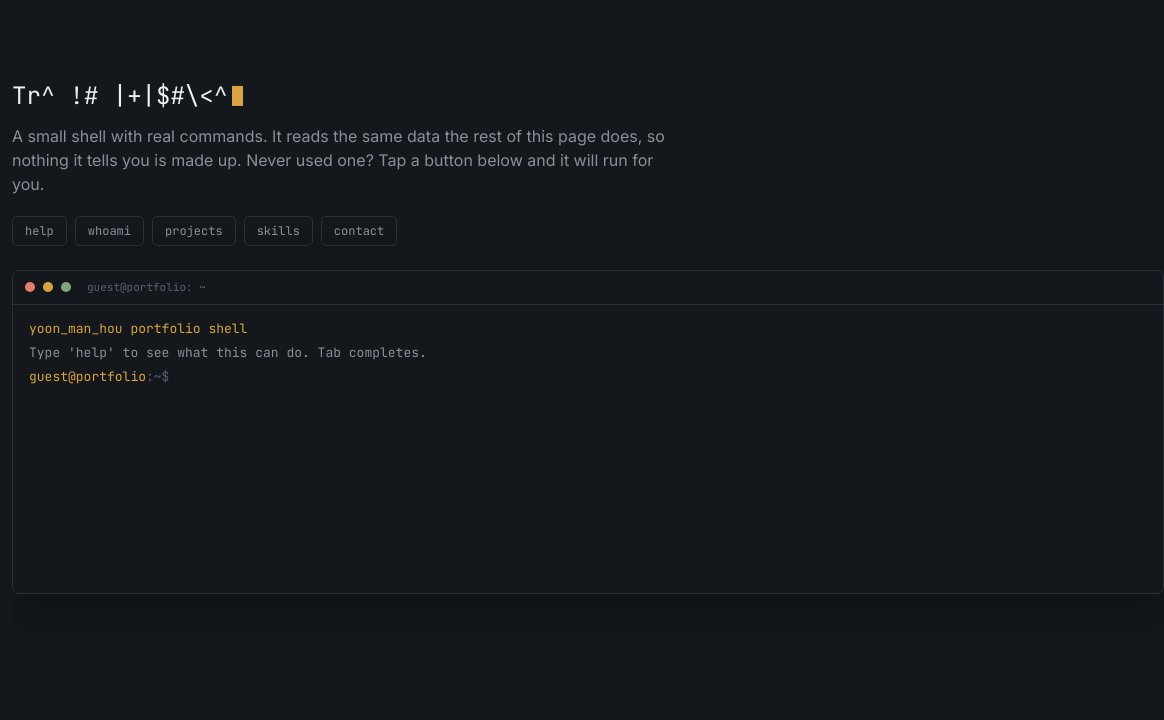
TerminalDemo › prints the candidates when Tab is ambiguous rather than guessing
Click the field named "terminal input": {"x": 658, "y": 376} x1=169 y1=364 x2=1147 y2=388
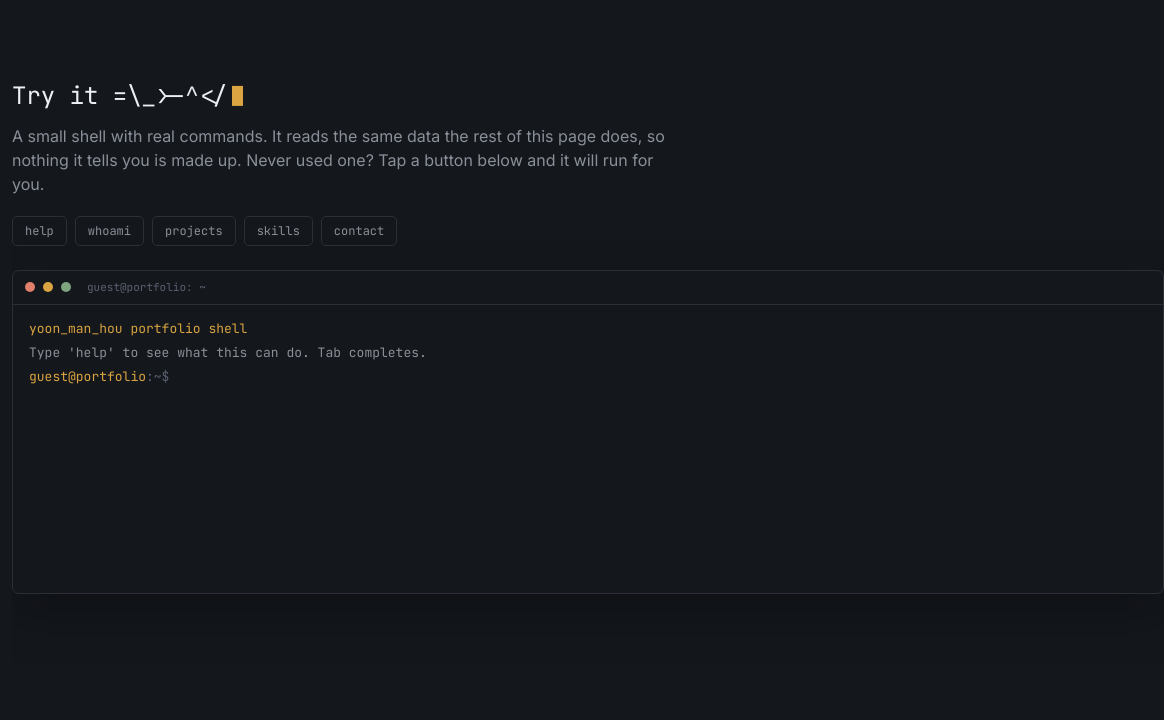
Type keys "c{Tab}"
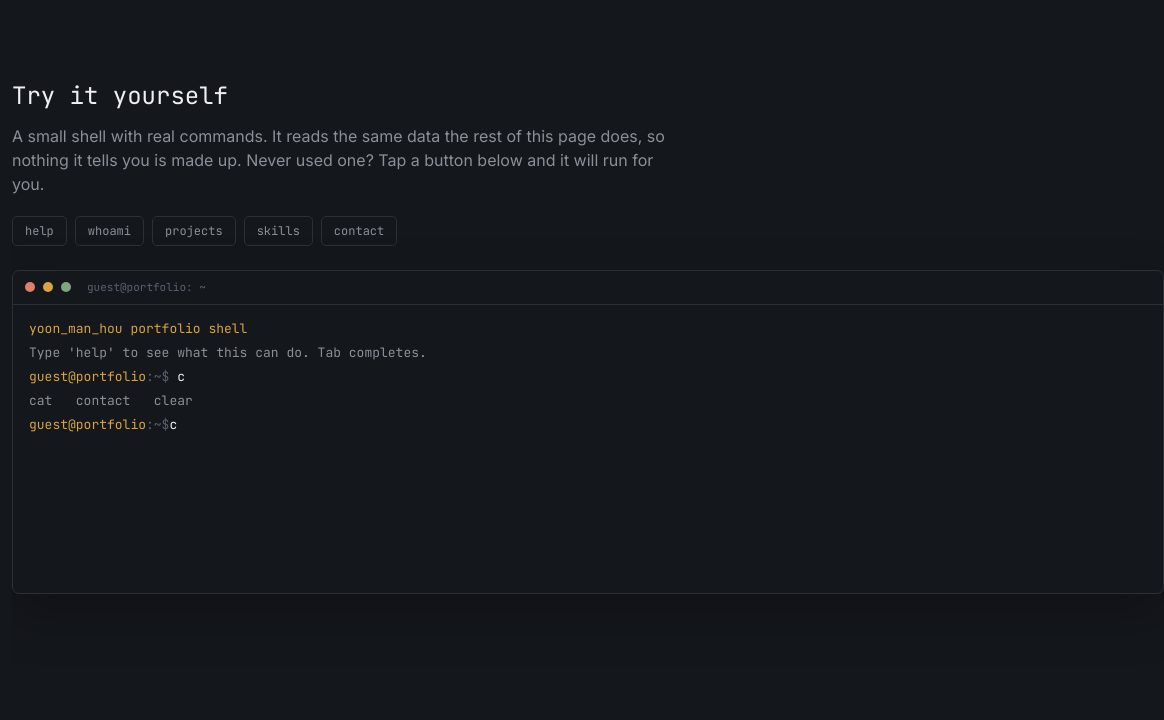
Check: the field named "terminal input" holds "c", box x1=169 y1=412 x2=1147 y2=436
Check: the text "cat contact clear" is shown, box x1=29 y1=392 x2=193 y2=408
